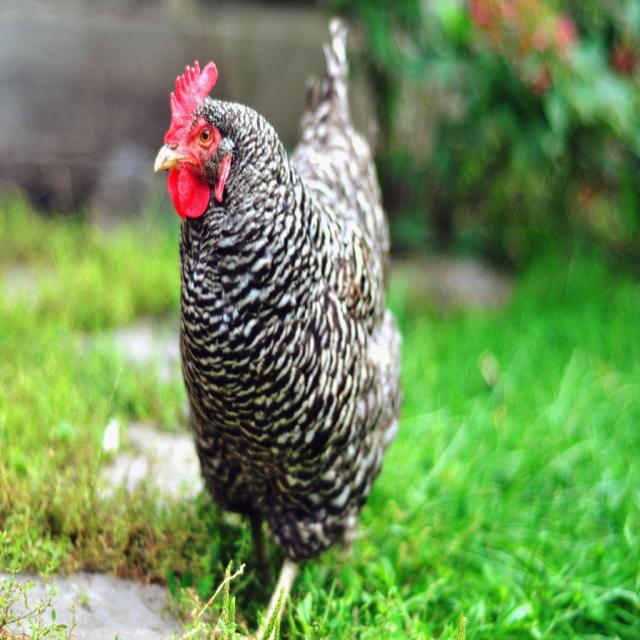Chicken: (165, 26, 398, 631)
